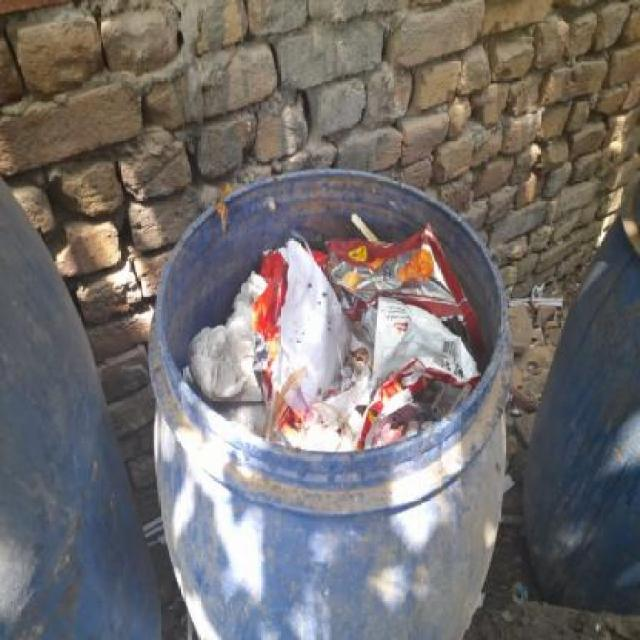garbage: (177, 146, 502, 479)
